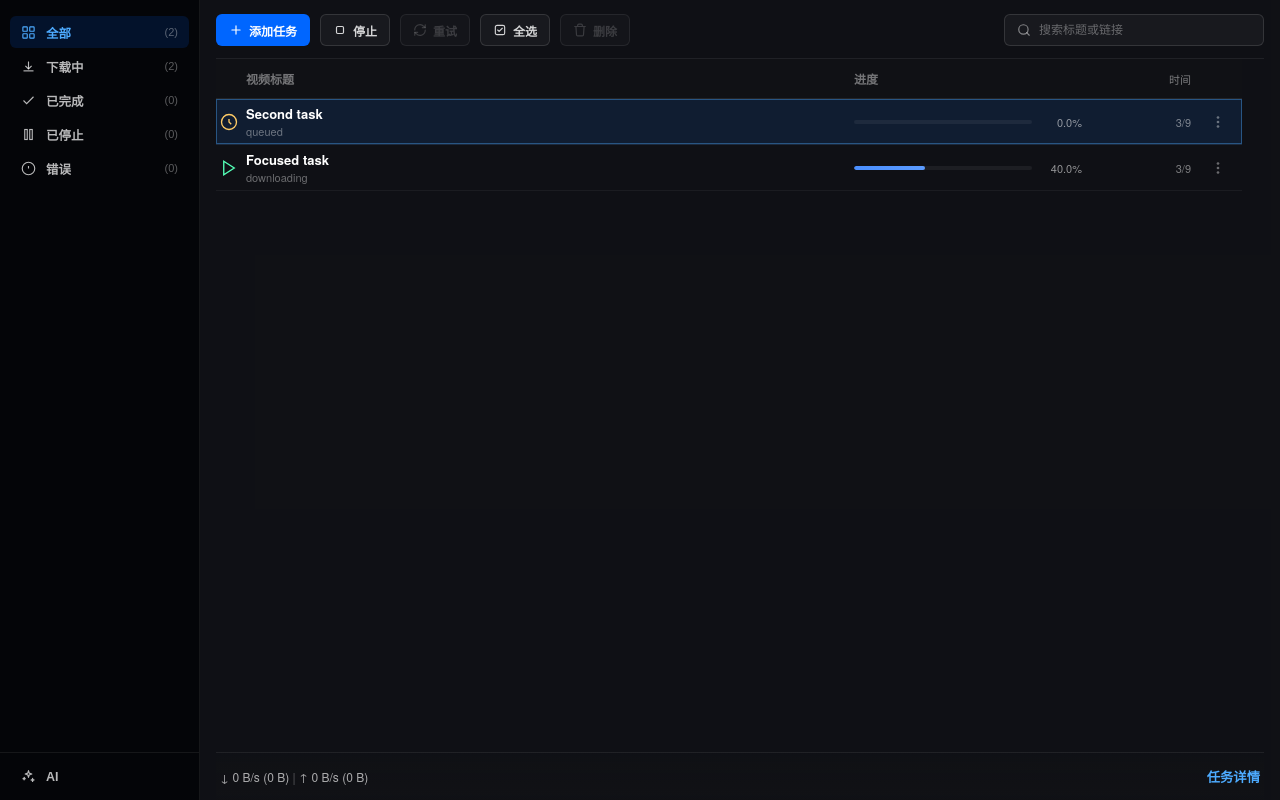
Test case: DownloaderApp interactions › shift-click extends selection across visible rows
This screenshot has width=1280, height=800.
Click the text "Focused task": (729, 168) x1=216 y1=145 x2=1242 y2=191
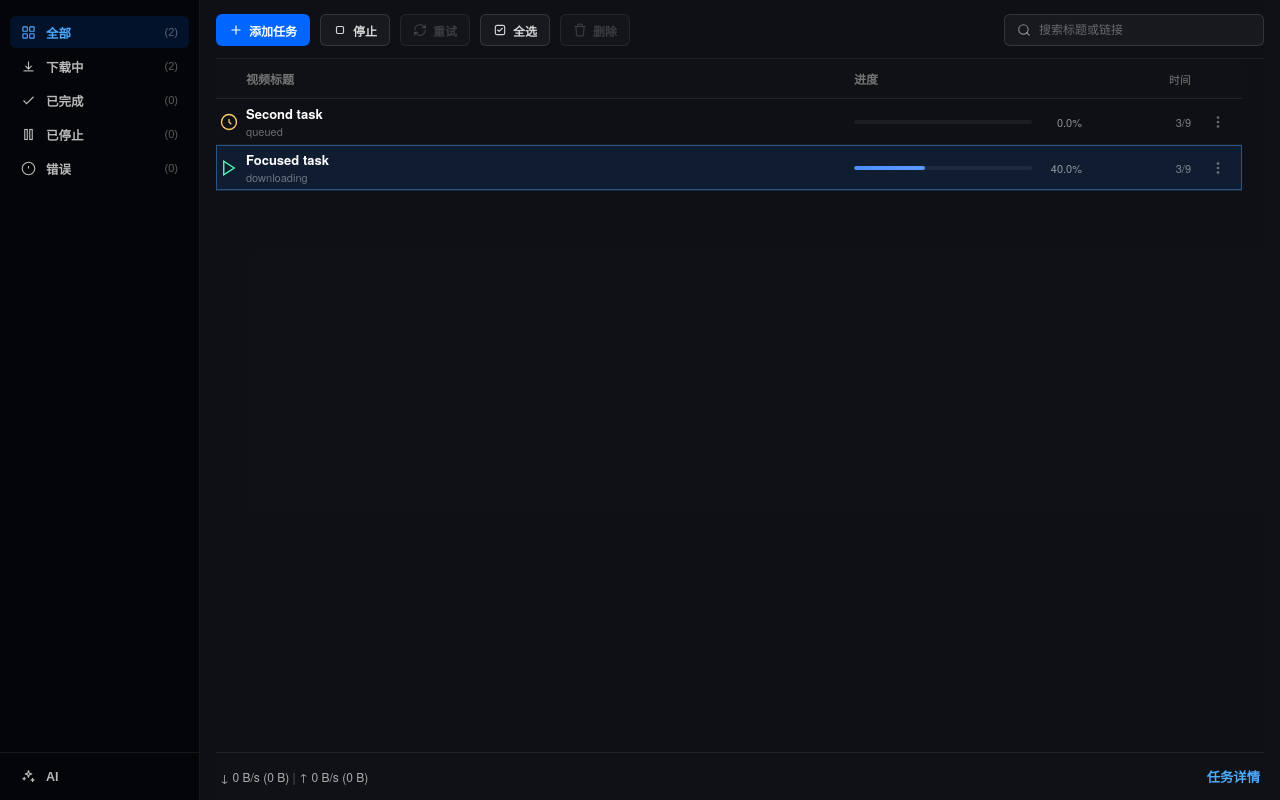
Expected: the button with aria-label "stop-selected-downloads" is enabled, x1=320 y1=14 x2=390 y2=46
Click the text "Second task": (729, 122) x1=216 y1=99 x2=1242 y2=145
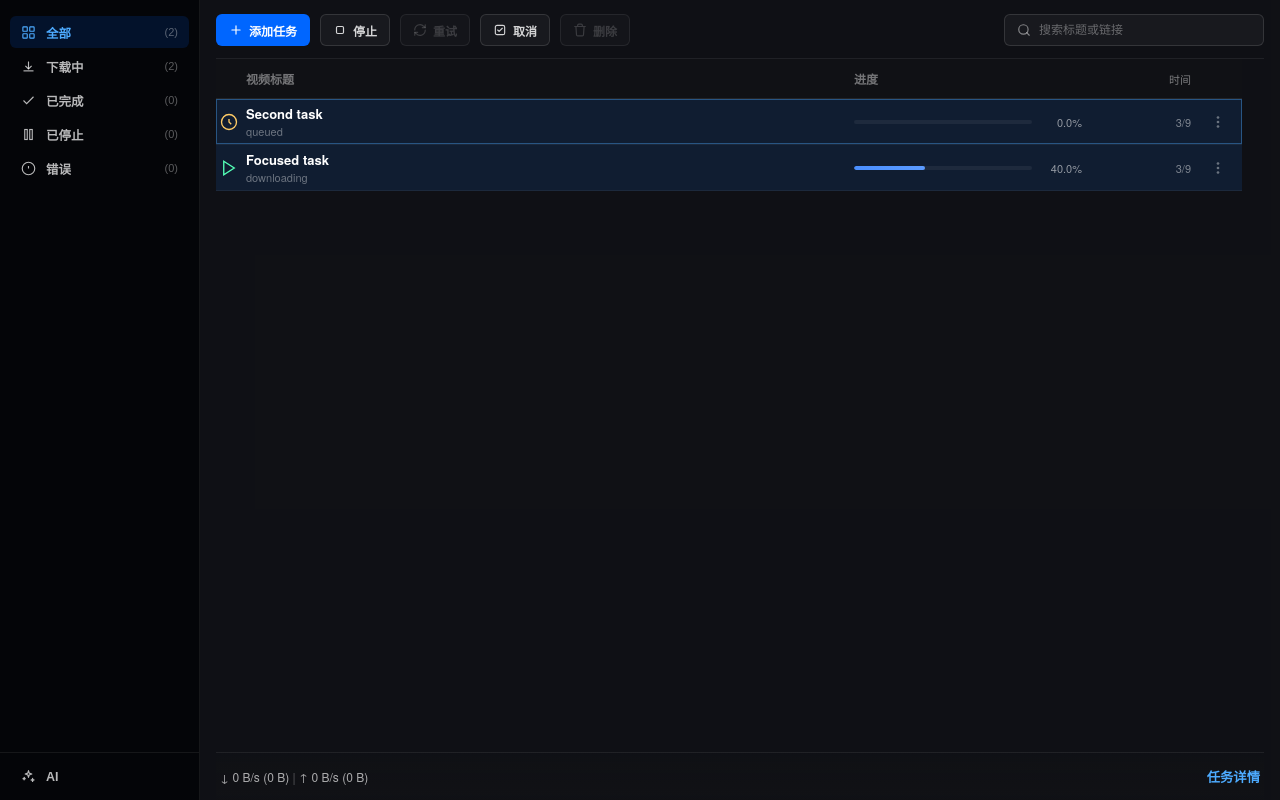
Expected: the button with aria-label "select-all-downloads" reads "取消", x1=480 y1=14 x2=550 y2=46
